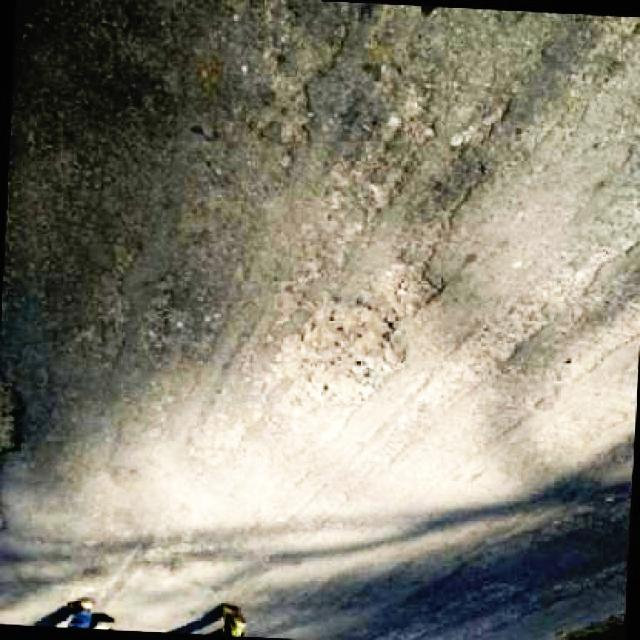pothole: (286, 294, 437, 404), (0, 374, 26, 458)
